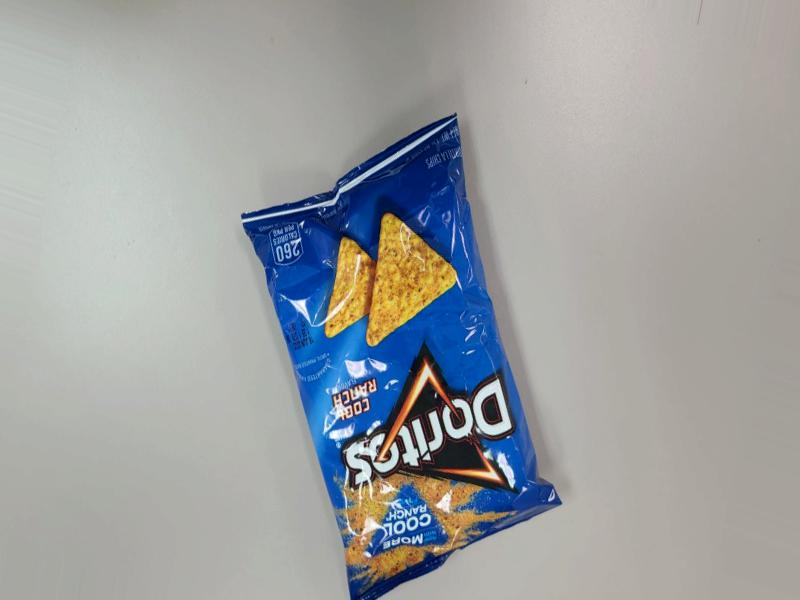doritos: (260, 95, 569, 600)
